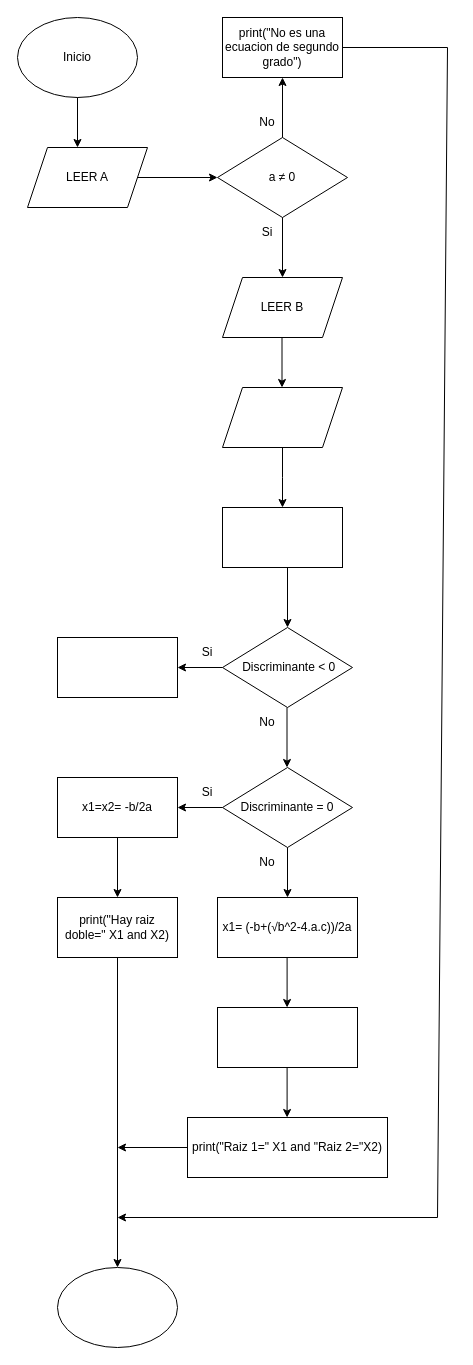
The diagram is 473 pixels wide and 1365 high, and some of its shapes have lost their labels. The box of each missing label's shape, as (x1, y1, x2, y2) in pixels:
Calcular: (b^2)-4ac: (222, 506, 342, 568)
Dar mensaje: "no hay raices reales": (56, 636, 178, 698)
FIN: (56, 1266, 178, 1348)
LEER C: (222, 386, 342, 448)
x2= (-b-(√b^2-4.a.c))/2a: (216, 1006, 358, 1068)
